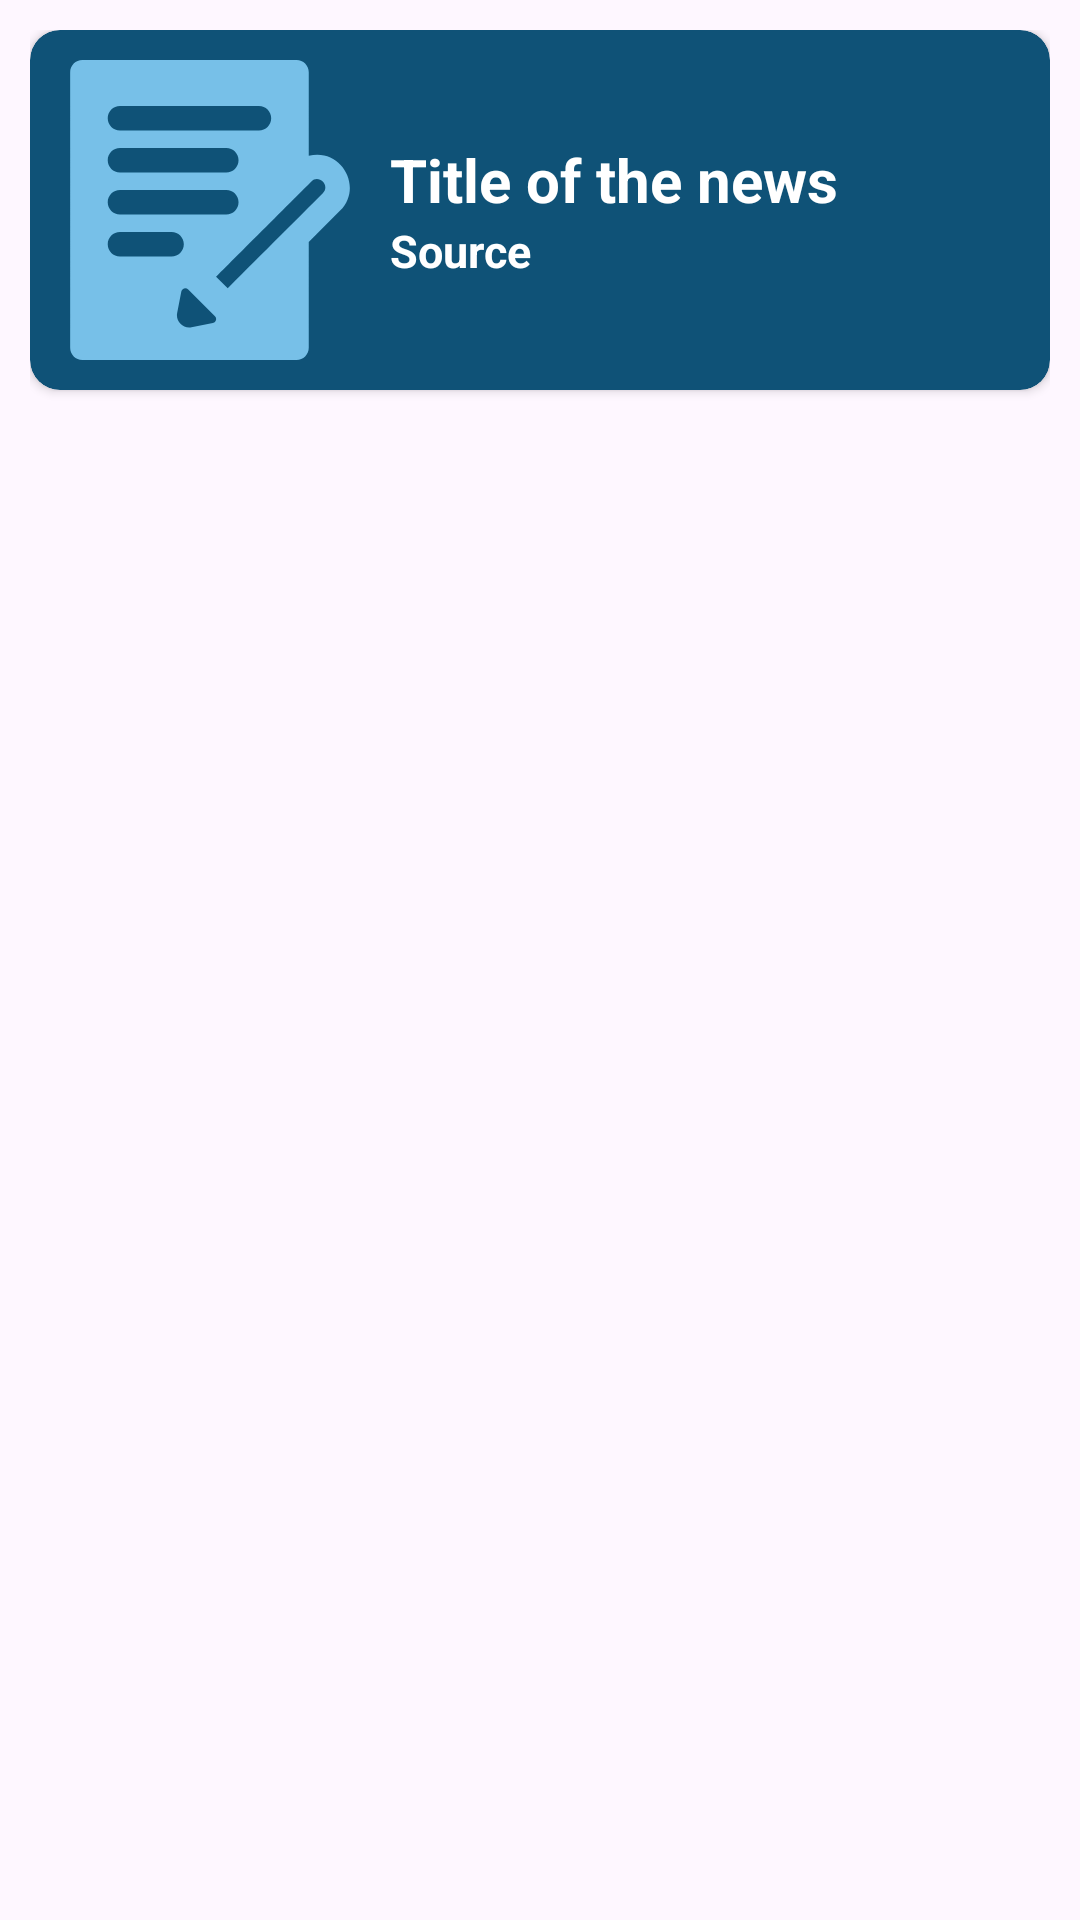

Icon click points for this 1080px x 1920px phone screenshot, format (x=x, y=y):
writing: (x=210, y=210)
